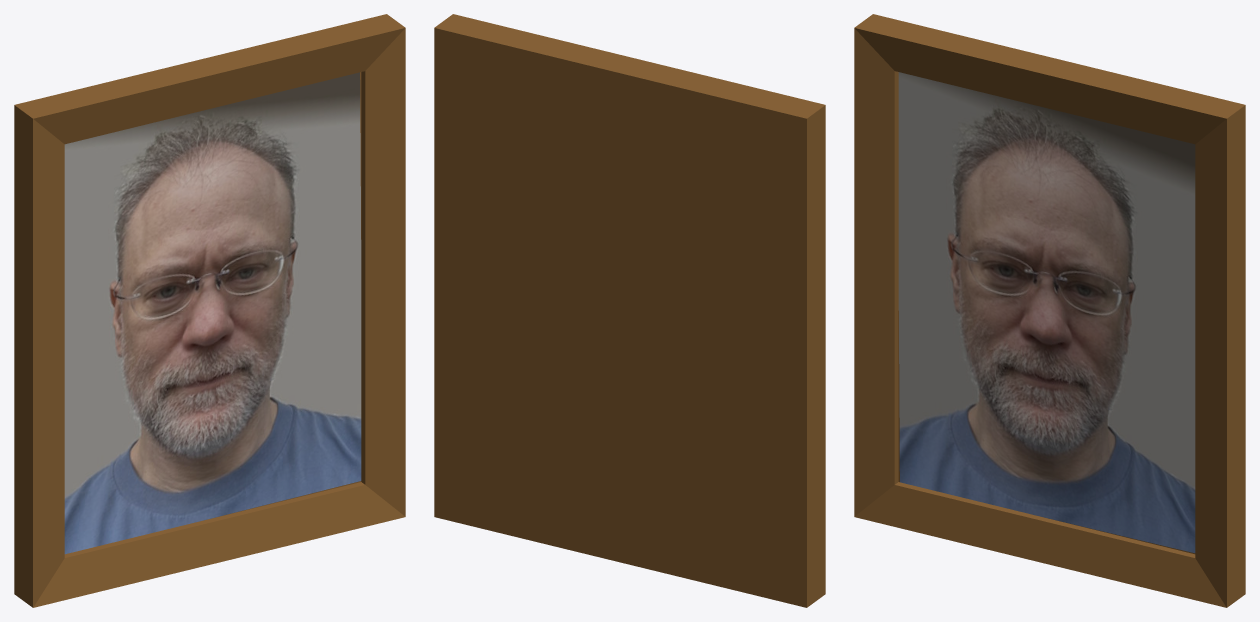
Rendered from frame.glb.
The picture shows the model from 3 angles, left to right: view 1: azimuth 30°, elevation 25°; view 2: azimuth 150°, elevation 25°; view 3: azimuth 330°, elevation 25°; orthographic projection.
Parts seen in each view (by area): view 1: Photo, Frame; view 2: Frame; view 3: Photo, Frame.
Boxes of the visible parts, <box> form: Photo: <box>64,72,361,554</box>; Frame: <box>14,14,405,607</box>; Frame: <box>434,14,825,607</box>; Photo: <box>898,72,1195,553</box>; Frame: <box>854,14,1245,607</box>.
Bounding box in the file's own units: 1.54 × 1.94 × 0.1359.
2 materials, 1 textured.
